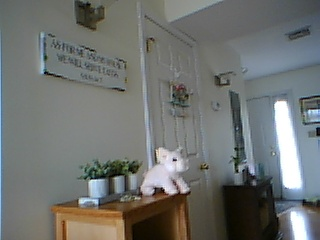piggy: (139, 145, 192, 196)
